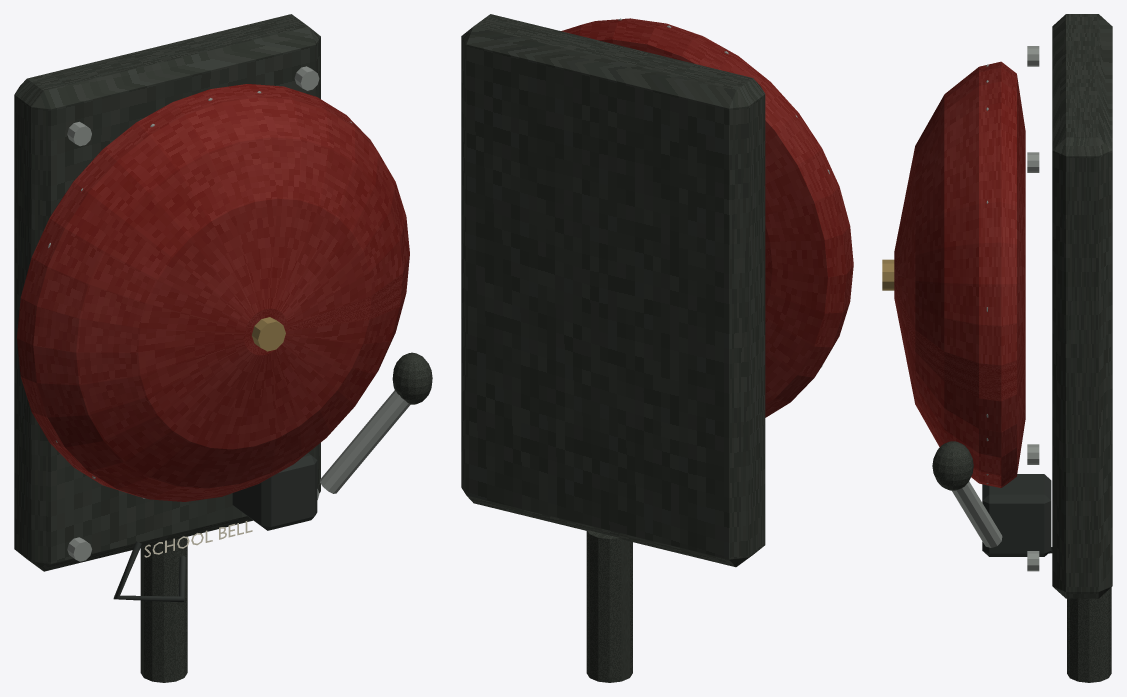
The model's file is School_Bell.glb.
The picture shows the model from 3 angles, left to right: view 1: azimuth 30°, elevation 25°; view 2: azimuth 150°, elevation 25°; view 3: azimuth 270°, elevation 25°; orthographic projection. The views are drawn at different scales.
Parts seen in each view (by area): view 1: Bell_Red_Gong, Bell_Backplate, Bell_Conduit, Bell_Coil, Bell_Striker_Arm, Bell_Striker, Bell_Visible_Wire, Bell_Center_Bolt; view 2: Bell_Backplate, Bell_Red_Gong, Bell_Conduit; view 3: Bell_Red_Gong, Bell_Backplate, Bell_Coil, Bell_Conduit, Bell_Striker, Bell_Striker_Arm, Bell_Center_Bolt.
Boxes of the visible parts, bbox=[...] form: Bell_Red_Gong: bbox=[17, 84, 409, 501]; Bell_Backplate: bbox=[14, 14, 320, 571]; Bell_Conduit: bbox=[140, 538, 187, 682]; Bell_Coil: bbox=[232, 453, 317, 530]; Bell_Striker_Arm: bbox=[320, 390, 410, 493]; Bell_Striker: bbox=[392, 352, 432, 404]; Bell_Visible_Wire: bbox=[113, 541, 186, 602]; Bell_Center_Bolt: bbox=[251, 317, 285, 351]; Bell_Backplate: bbox=[461, 14, 765, 567]; Bell_Red_Gong: bbox=[561, 18, 853, 417]; Bell_Conduit: bbox=[586, 530, 632, 682]; Bell_Red_Gong: bbox=[894, 61, 1025, 487]; Bell_Backplate: bbox=[1052, 14, 1112, 598]; Bell_Coil: bbox=[982, 474, 1051, 556]; Bell_Conduit: bbox=[1067, 587, 1111, 682]; Bell_Striker: bbox=[932, 441, 973, 490]; Bell_Striker_Arm: bbox=[952, 481, 1002, 547]; Bell_Center_Bolt: bbox=[882, 259, 894, 290].
Size of the model in its own units: 0.249 by 0.3825 by 0.1335.
Materials: 6 (2 with a texture image).
